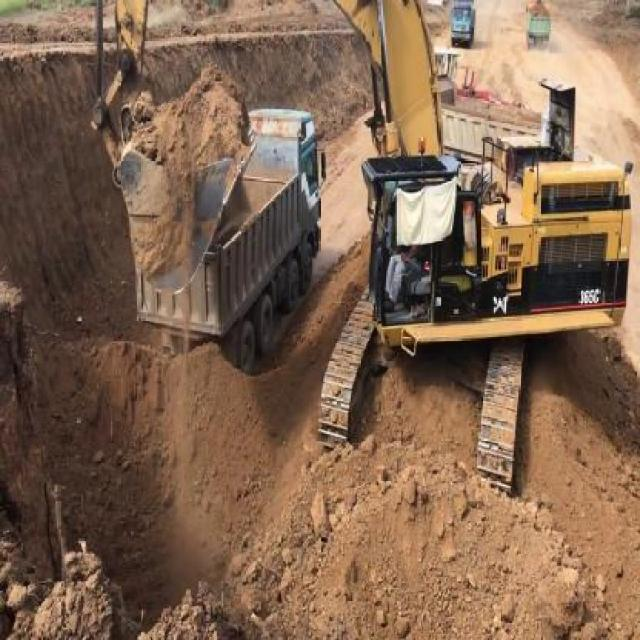Dump Truck: (140, 110, 323, 348), (449, 0, 474, 45), (525, 3, 549, 48)
Excavator: (89, 0, 629, 515)
